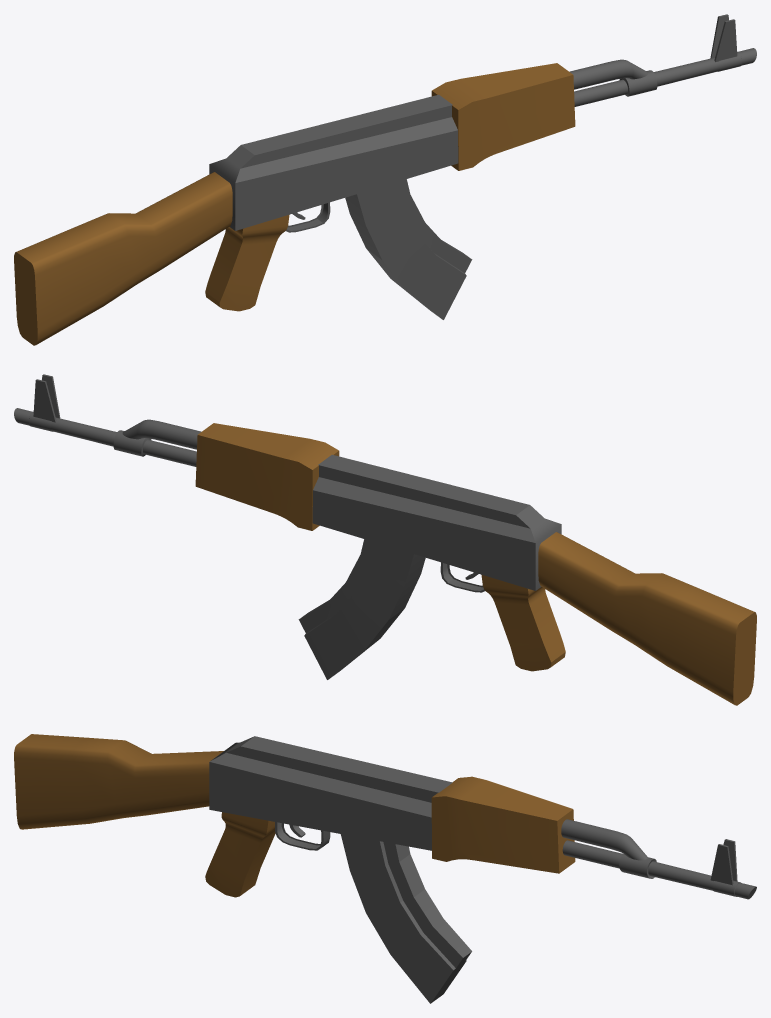
The picture shows the model from 3 angles, top to bottom: view 1: azimuth 30°, elevation 25°; view 2: azimuth 150°, elevation 25°; view 3: azimuth 330°, elevation 25°; orthographic projection.
Parts seen in each view (by area): view 1: Cube.001, Cube.005, Cube.002, Cube, Cube.004, Cylinder, Cylinder.001, Cube.003; view 2: Cube.001, Cube.005, Cube.002, Cube, Cube.004, Cylinder, Cylinder.001, Cube.003; view 3: Cube.001, Cube.005, Cube, Cube.002, Cube.004, Cylinder, Cylinder.001, Cube.003, Cube.006.
Part boxes in pixels (x1,y1,x2,y2): Cube.001: [209, 94, 458, 230]; Cube.005: [14, 172, 232, 345]; Cube.002: [431, 63, 575, 170]; Cube: [345, 179, 472, 319]; Cube.004: [205, 214, 289, 311]; Cylinder: [574, 48, 756, 106]; Cylinder.001: [569, 59, 648, 89]; Cube.003: [710, 14, 737, 62]; Cube.001: [312, 454, 561, 590]; Cube.005: [538, 532, 756, 705]; Cube.002: [195, 423, 339, 530]; Cube: [298, 539, 425, 679]; Cube.004: [481, 574, 565, 671]; Cylinder: [14, 408, 196, 466]; Cylinder.001: [122, 419, 201, 449]; Cube.003: [33, 374, 60, 422]; Cube.001: [209, 736, 452, 850]; Cube.005: [14, 734, 223, 829]; Cube: [340, 834, 471, 1003]; Cube.002: [431, 776, 575, 873]; Cube.004: [205, 812, 275, 897]; Cylinder: [562, 840, 756, 899]; Cylinder.001: [561, 819, 648, 860]; Cube.003: [710, 839, 737, 885]; Cube.006: [275, 822, 330, 850].
Size of the model in its own units: 567 by 168 by 35.81.
